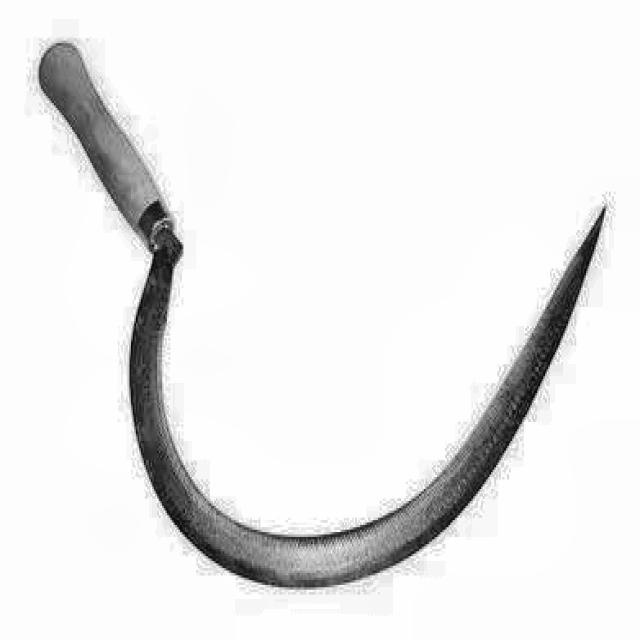celurit: (33, 32, 612, 601)
